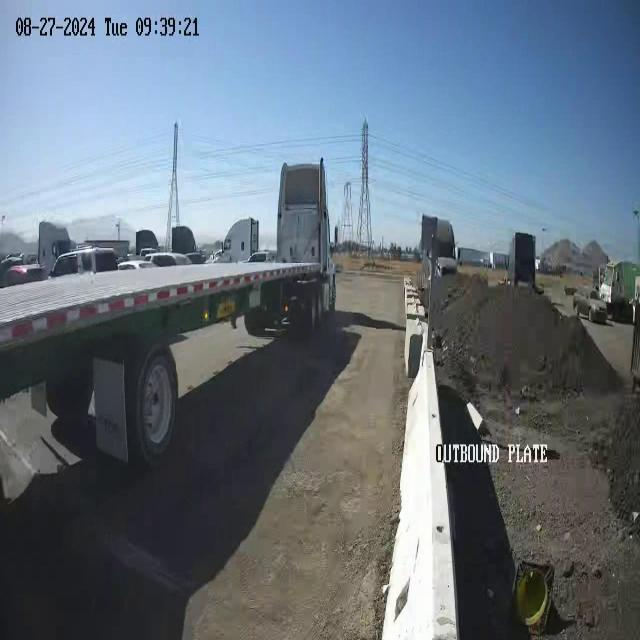TRUCK_IN: (1, 155, 337, 472)
